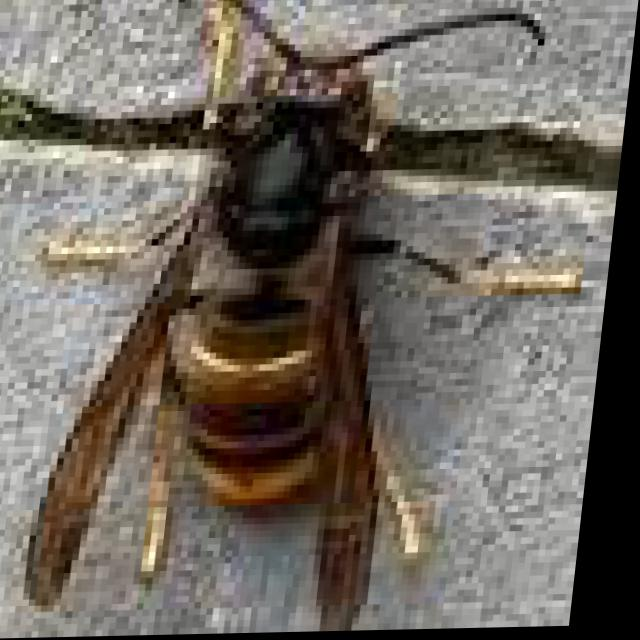Vespa Velutina: (0, 0, 634, 634)
